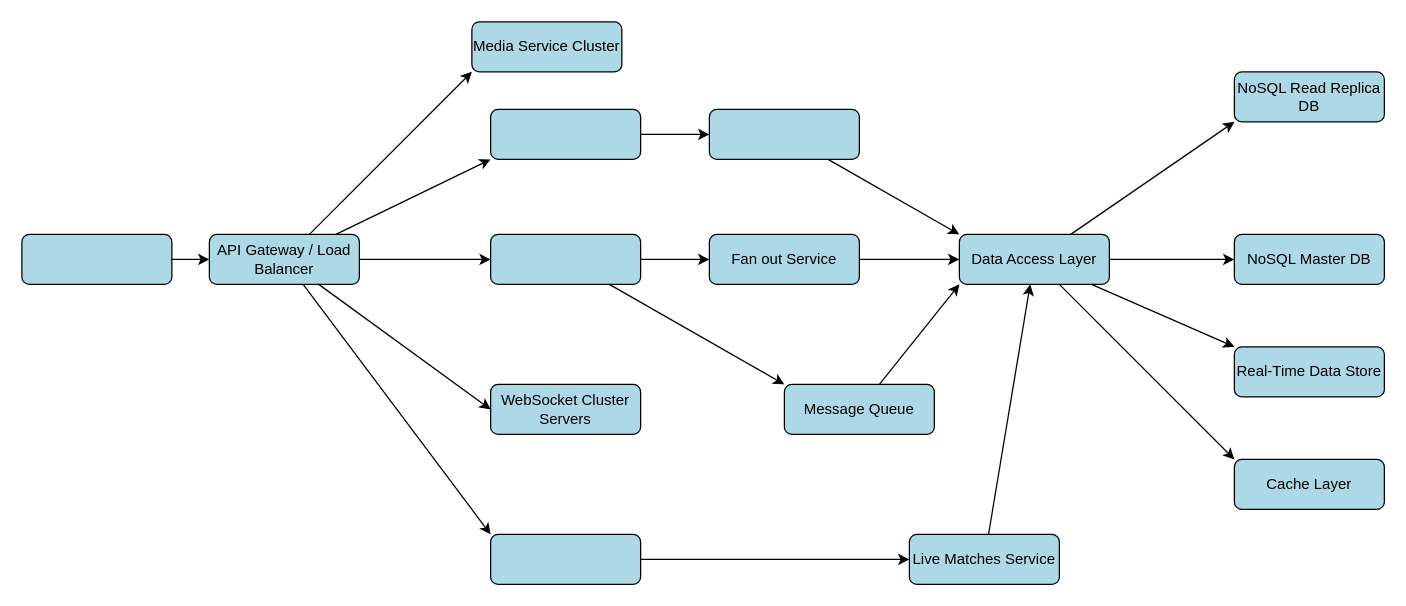
The diagram is 1406 pixels wide and 606 high, and some of its shapes have lost their labels. Here are the shapes that lost their labels. From the top down, the centre of each, then its label:
At point 565,133: "Read API".
At point 783,133: "News Feed Service".
At point 96,258: "Client".
At point 565,258: "Write API".
At point 565,558: "Match Events Listener".
